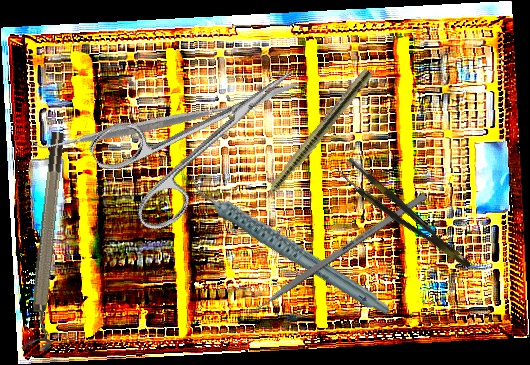Fixation Ring: (20, 130, 78, 353)
Handpiece: (184, 137, 394, 352), (247, 66, 375, 217)
Iris Scissors: (84, 31, 328, 241)
Pusher: (231, 192, 428, 328)
Spatula Surgical: (28, 11, 259, 241)
Tissue Forceps: (336, 156, 473, 280)
